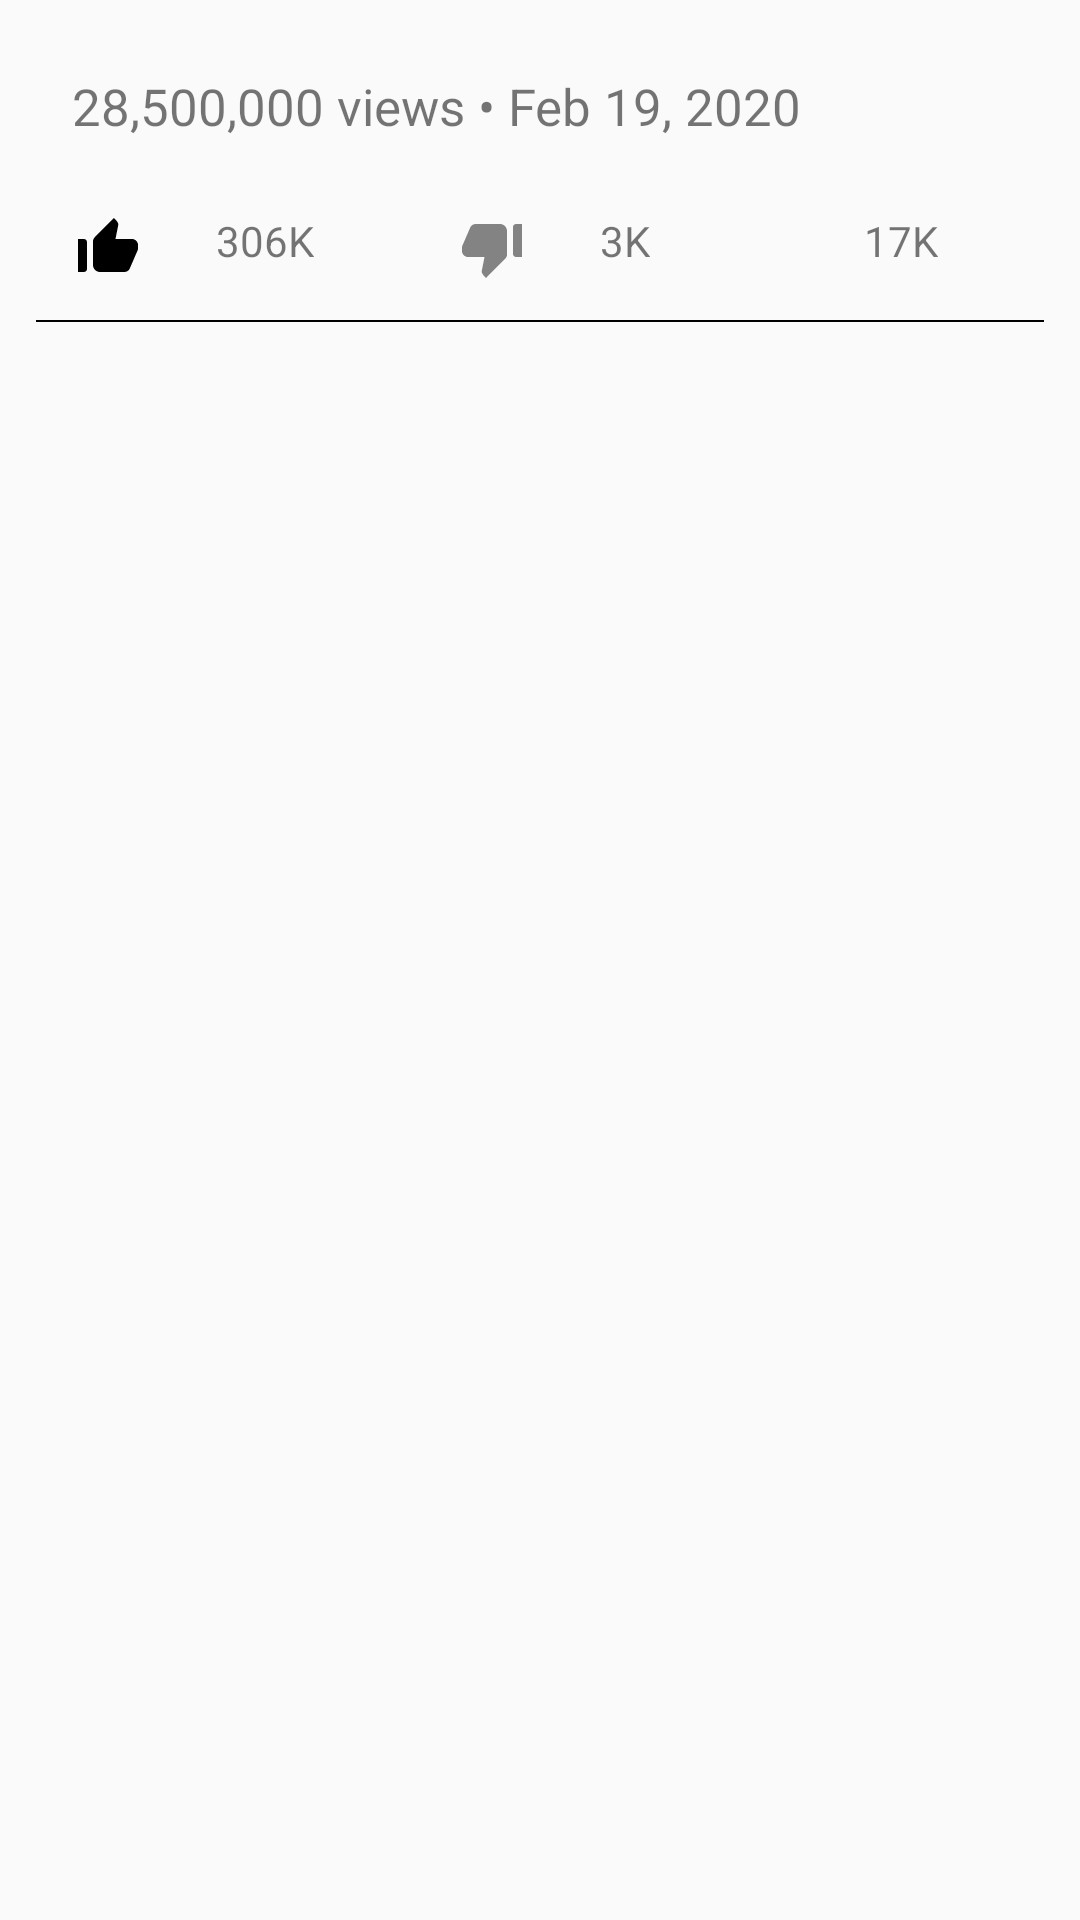

Icons on this 1080 × 1920 Android screen, each with the point to tap as [x,y]:
thumbs down: [492,251]
thumbs up: [108,245]
